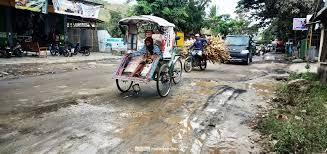Pothole: (194, 73, 266, 154)
